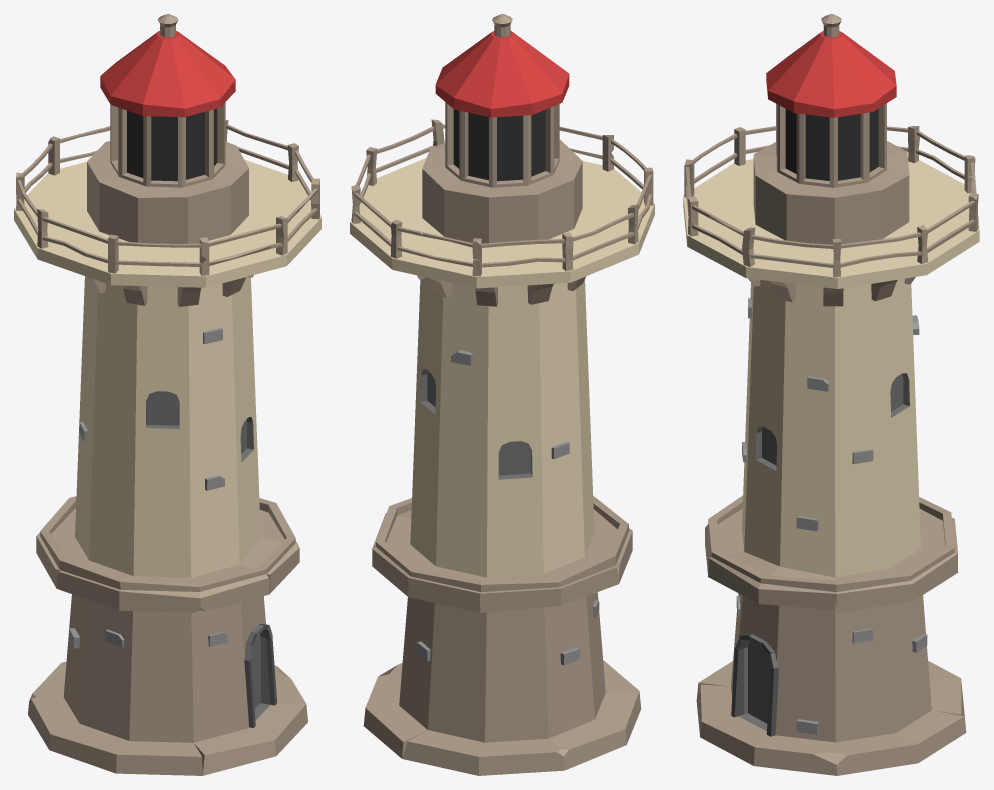
The model's file is Light House.fbx.
3 views of the same model, side by side, from view 1: azimuth 30°, elevation 25°; view 2: azimuth 150°, elevation 25°; view 3: azimuth 270°, elevation 25° (orthographic).
Parts seen in each view (by area): view 1: M_Light House; view 2: M_Light House; view 3: M_Light House.
Boxes of the visible parts, x1,y1,x2,y2 form: M_Light House: [14, 14, 321, 775]; M_Light House: [350, 14, 654, 775]; M_Light House: [683, 14, 979, 775].
Size of the model in its own units: 2.28 by 5.75 by 2.19.
1 material, 1 textured.
